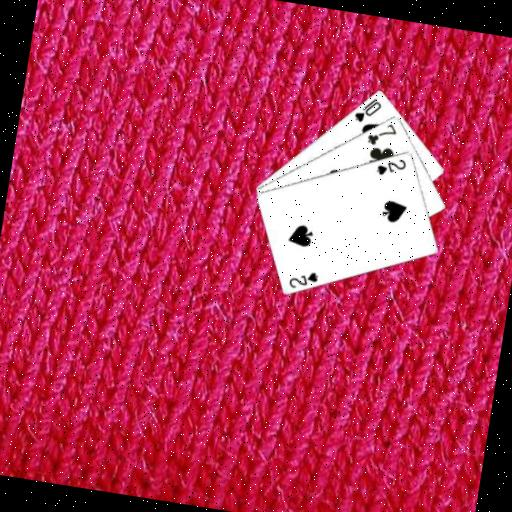10S: (351, 91, 384, 126)
2S: (373, 152, 409, 180), (284, 265, 320, 293)
7C: (363, 116, 399, 149)
